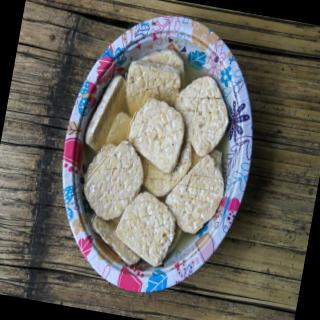Tempe: (78, 135, 151, 228), (161, 148, 231, 239), (168, 72, 237, 162), (110, 187, 183, 271), (121, 43, 191, 125), (122, 95, 191, 177), (86, 215, 148, 268)
